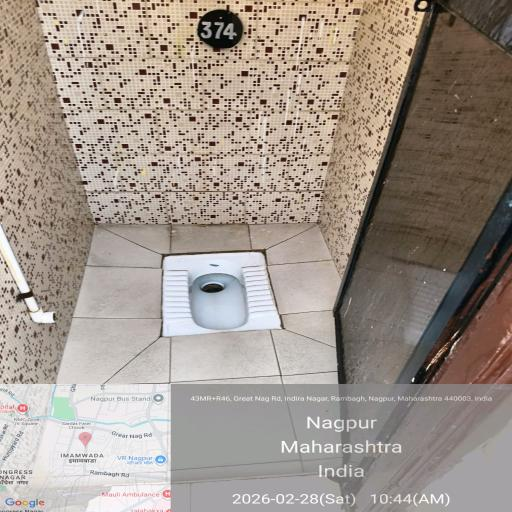clean_floor: (77, 241, 503, 512), (33, 0, 374, 179)
clean_indian: (155, 256, 297, 362)
